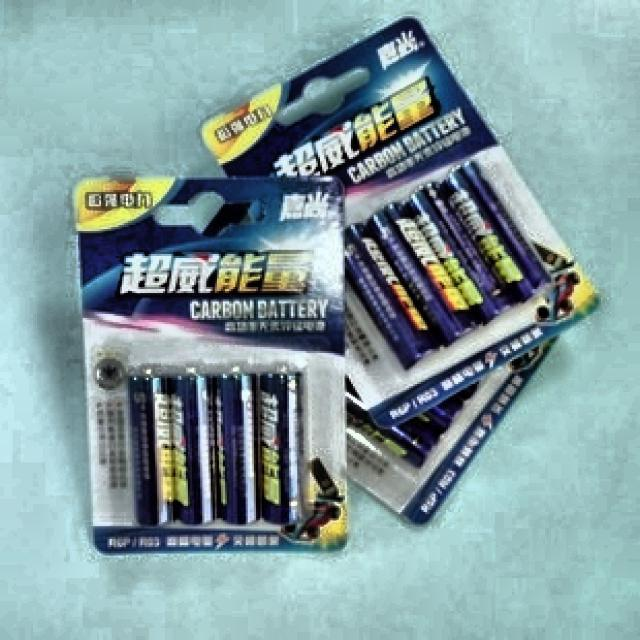battery: (346, 163, 550, 367), (129, 373, 304, 526)
